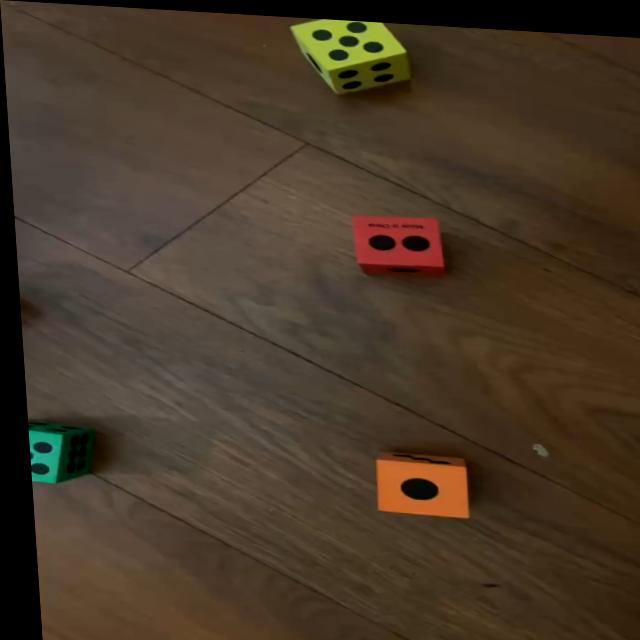cube: (350, 210, 442, 274), (22, 423, 88, 485)
